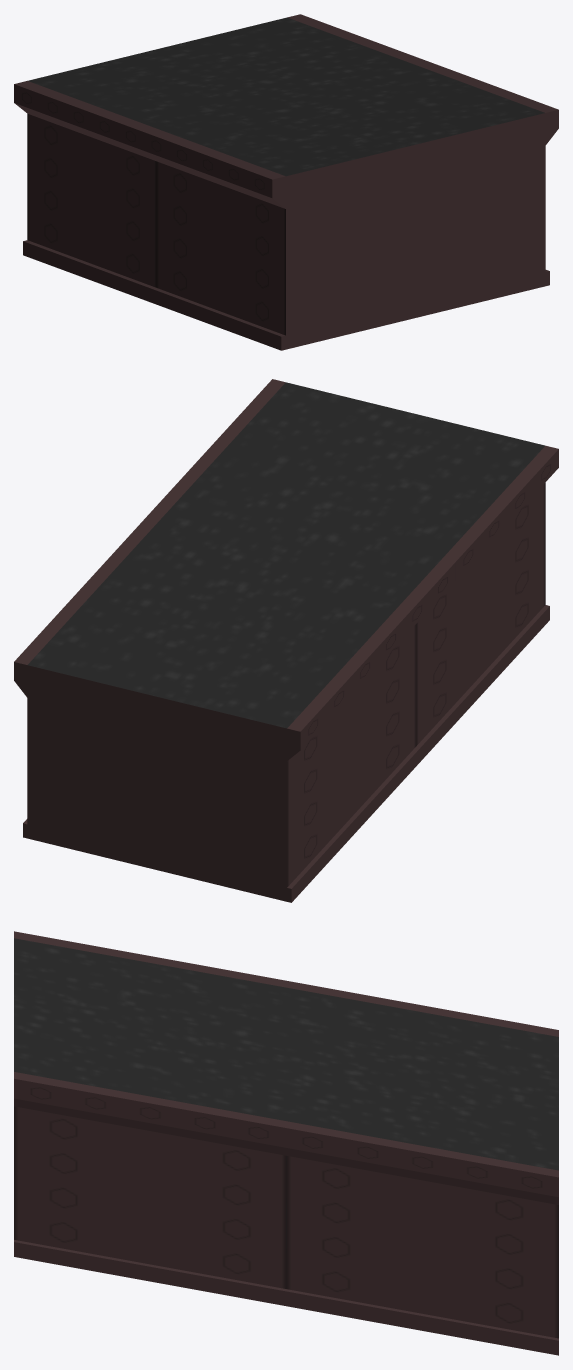
The model's file is SW_ENV_EL_TrackBase_Rise_5m.fbx.
3 renders of one model, top to bottom at view 1: azimuth 30°, elevation 25°; view 2: azimuth 150°, elevation 25°; view 3: azimuth 270°, elevation 25°, orthographic. The views are drawn at different scales.
Parts seen in each view (by area): view 1: SW_ENV_EL_TrackBase_Rise_5m; view 2: SW_ENV_EL_TrackBase_Rise_5m; view 3: SW_ENV_EL_TrackBase_Rise_5m.
Part boxes in pixels (bbox=[...]): SW_ENV_EL_TrackBase_Rise_5m: bbox=[14, 14, 558, 350]; SW_ENV_EL_TrackBase_Rise_5m: bbox=[14, 379, 558, 902]; SW_ENV_EL_TrackBase_Rise_5m: bbox=[14, 931, 558, 1355].
Size of the model in its own units: 320 by 285 by 500.
